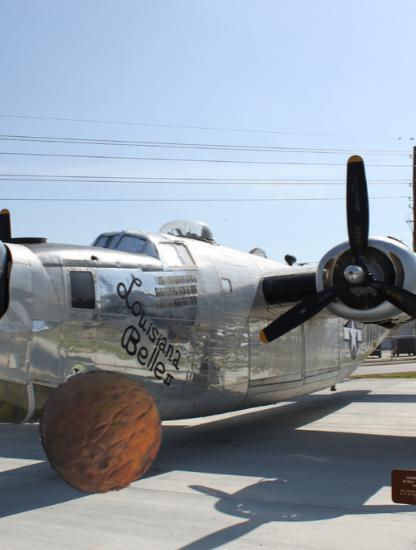Walnut: (41, 368, 165, 492)
